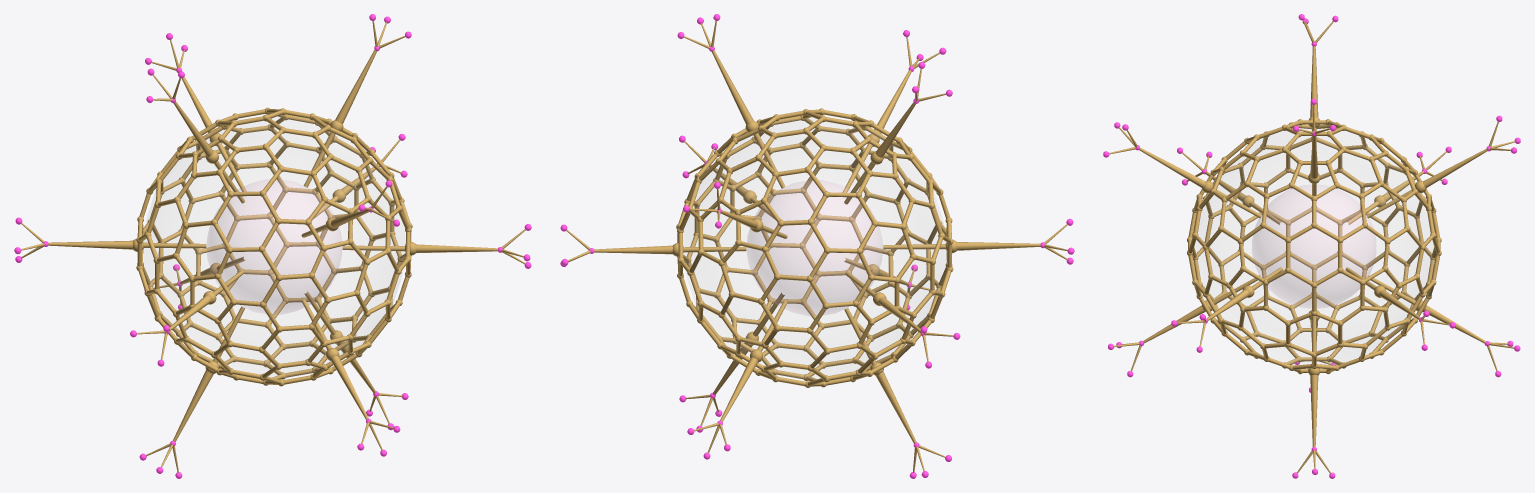
File: specimen.glb
The picture shows the model from 3 angles, left to right: view 1: azimuth 30°, elevation 25°; view 2: azimuth 150°, elevation 25°; view 3: azimuth 270°, elevation 25°; orthographic projection. The views are drawn at different scales.
Parts seen in each view (by area): view 1: brass, core, beads; view 2: brass, core, beads; view 3: brass, core, beads.
Boxes of the visible parts, bbox=[...] form: brass: bbox=[21, 21, 525, 472]; core: bbox=[206, 179, 342, 314]; beads: bbox=[14, 14, 531, 478]; brass: bbox=[566, 21, 1067, 472]; core: bbox=[746, 180, 882, 315]; beads: bbox=[560, 14, 1074, 478]; brass: bbox=[1109, 20, 1515, 473]; core: bbox=[1252, 185, 1375, 308]; beads: bbox=[1103, 14, 1520, 478].
Bounding box in the file's own units: 3.36 × 3.36 × 3.34.
